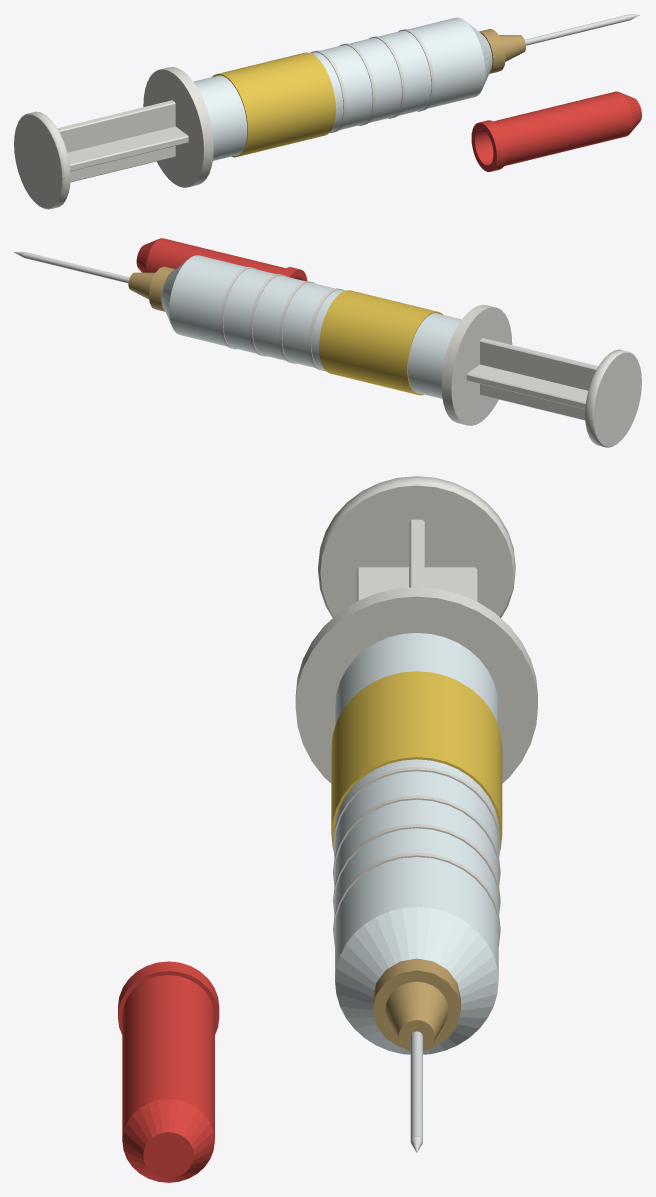
File: Adrenalin_spoid.fbx
The picture shows the model from 3 angles, top to bottom: view 1: azimuth 30°, elevation 25°; view 2: azimuth 150°, elevation 25°; view 3: azimuth 270°, elevation 25°; orthographic projection. The views are drawn at different scales.
Visible parts, largest first — view 1: 05_Adrenaline_Syringe_Syringe_Barrel_Glass, 05_Adrenaline_Syringe_Plunger_Rod_And_Piston, 05_Adrenaline_Syringe_Warning_Label_Band, 05_Adrenaline_Syringe_Protective_Needle_Cap, 05_Adrenaline_Syringe_Needle_Hub_And_Steel; view 2: 05_Adrenaline_Syringe_Syringe_Barrel_Glass, 05_Adrenaline_Syringe_Plunger_Rod_And_Piston, 05_Adrenaline_Syringe_Warning_Label_Band, 05_Adrenaline_Syringe_Protective_Needle_Cap, 05_Adrenaline_Syringe_Needle_Hub_And_Steel; view 3: 05_Adrenaline_Syringe_Syringe_Barrel_Glass, 05_Adrenaline_Syringe_Plunger_Rod_And_Piston, 05_Adrenaline_Syringe_Protective_Needle_Cap, 05_Adrenaline_Syringe_Warning_Label_Band, 05_Adrenaline_Syringe_Needle_Hub_And_Steel.
Boxes of the visible parts, left/top/right/bottom form: 05_Adrenaline_Syringe_Syringe_Barrel_Glass: left=143, top=17, right=492, bottom=187; 05_Adrenaline_Syringe_Plunger_Rod_And_Piston: left=14, top=100, right=188, bottom=209; 05_Adrenaline_Syringe_Warning_Label_Band: left=212, top=52, right=335, bottom=157; 05_Adrenaline_Syringe_Protective_Needle_Cap: left=471, top=91, right=641, bottom=171; 05_Adrenaline_Syringe_Needle_Hub_And_Steel: left=479, top=14, right=639, bottom=73; 05_Adrenaline_Syringe_Syringe_Barrel_Glass: left=162, top=255, right=512, bottom=425; 05_Adrenaline_Syringe_Plunger_Rod_And_Piston: left=466, top=338, right=641, bottom=447; 05_Adrenaline_Syringe_Warning_Label_Band: left=319, top=290, right=443, bottom=395; 05_Adrenaline_Syringe_Protective_Needle_Cap: left=136, top=238, right=307, bottom=281; 05_Adrenaline_Syringe_Needle_Hub_And_Steel: left=14, top=252, right=175, bottom=311; 05_Adrenaline_Syringe_Syringe_Barrel_Glass: left=295, top=587, right=537, bottom=1054; 05_Adrenaline_Syringe_Plunger_Rod_And_Piston: left=318, top=476, right=515, bottom=617; 05_Adrenaline_Syringe_Protective_Needle_Cap: left=118, top=961, right=219, bottom=1182; 05_Adrenaline_Syringe_Warning_Label_Band: left=331, top=671, right=502, bottom=850; 05_Adrenaline_Syringe_Needle_Hub_And_Steel: left=373, top=958, right=460, bottom=1152.
Size of the model in its own units: 24.64 by 4.38 by 7.45.
